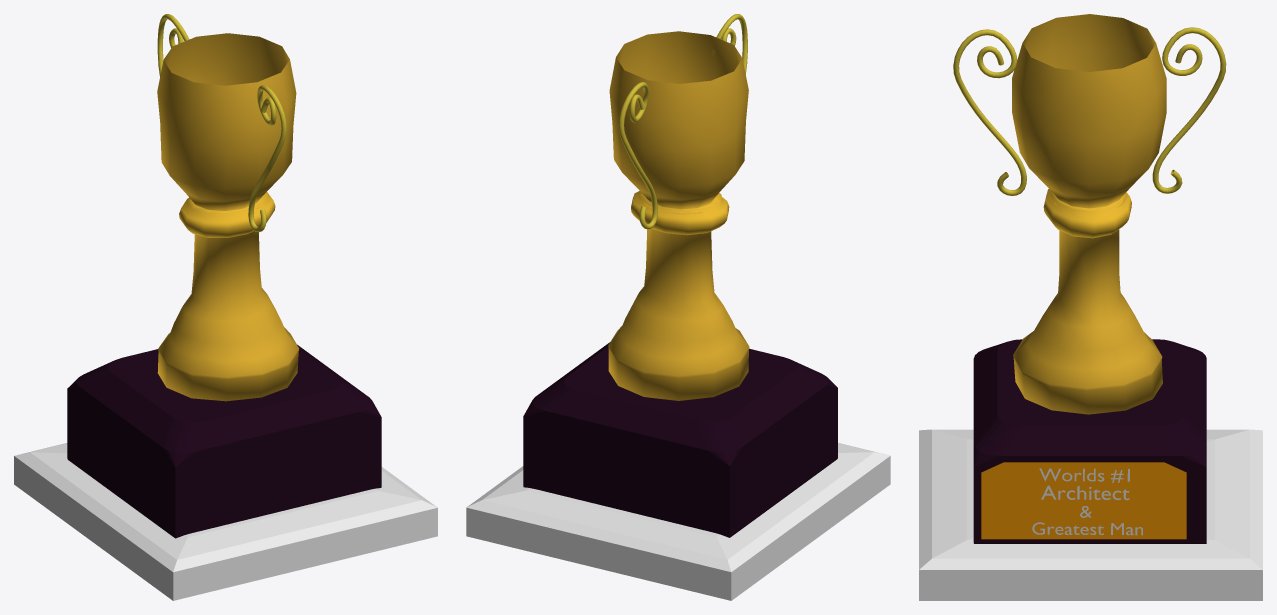
File: thropy.glb
3 views of the same model, side by side, from view 1: azimuth 30°, elevation 25°; view 2: azimuth 150°, elevation 25°; view 3: azimuth 270°, elevation 25° (orthographic). The views are drawn at different scales.
Parts seen in each view (by area): view 1: Cube, Cylinder, Cube.002, Cylinder.001, BezierCurve; view 2: Cube, Cylinder, Cube.002, Cylinder.001, BezierCurve; view 3: Cylinder, Cube.002, Cube, Cube.001, BezierCurve, Cylinder.001, Text.003, Text.001, Text.
Part boxes in pixels (left/top/right/bottom): Cube: left=67, top=344, right=381, bottom=538; Cylinder: left=157, top=33, right=299, bottom=401; Cube.002: left=14, top=443, right=437, bottom=600; Cylinder.001: left=179, top=192, right=275, bottom=237; BezierCurve: left=157, top=14, right=286, bottom=232; Cube: left=523, top=342, right=837, bottom=537; Cylinder: left=608, top=31, right=749, bottom=400; Cube.002: left=466, top=443, right=890, bottom=600; Cylinder.001: left=631, top=191, right=729, bottom=235; BezierCurve: left=618, top=14, right=747, bottom=229; Cylinder: left=1012, top=14, right=1166, bottom=414; Cube.002: left=919, top=429, right=1262, bottom=600; Cube: left=973, top=339, right=1206, bottom=543; Cube.001: left=981, top=462, right=1186, bottom=539; BezierCurve: left=953, top=27, right=1226, bottom=195; Cylinder.001: left=1043, top=189, right=1131, bottom=238; Text.003: left=1032, top=522, right=1142, bottom=535; Text.001: left=1041, top=485, right=1129, bottom=500; Text: left=1039, top=468, right=1129, bottom=482.
Size of the model in its own units: 5.6 by 9.35 by 5.83.
